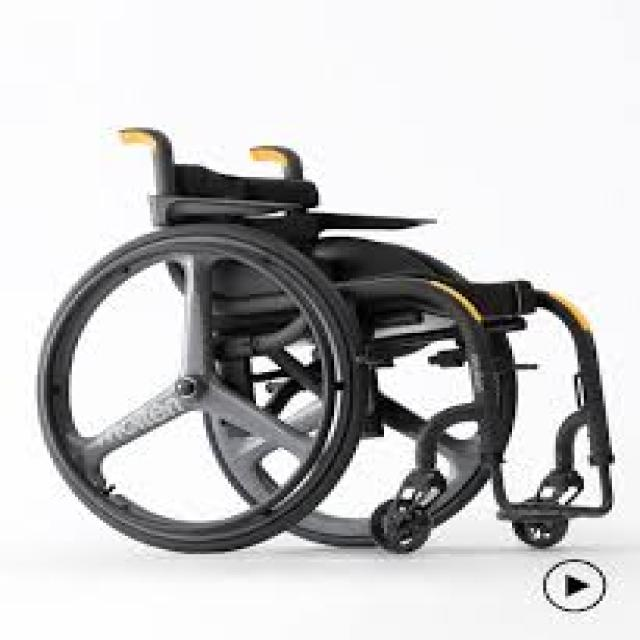wheelchairs: (25, 109, 618, 562)
